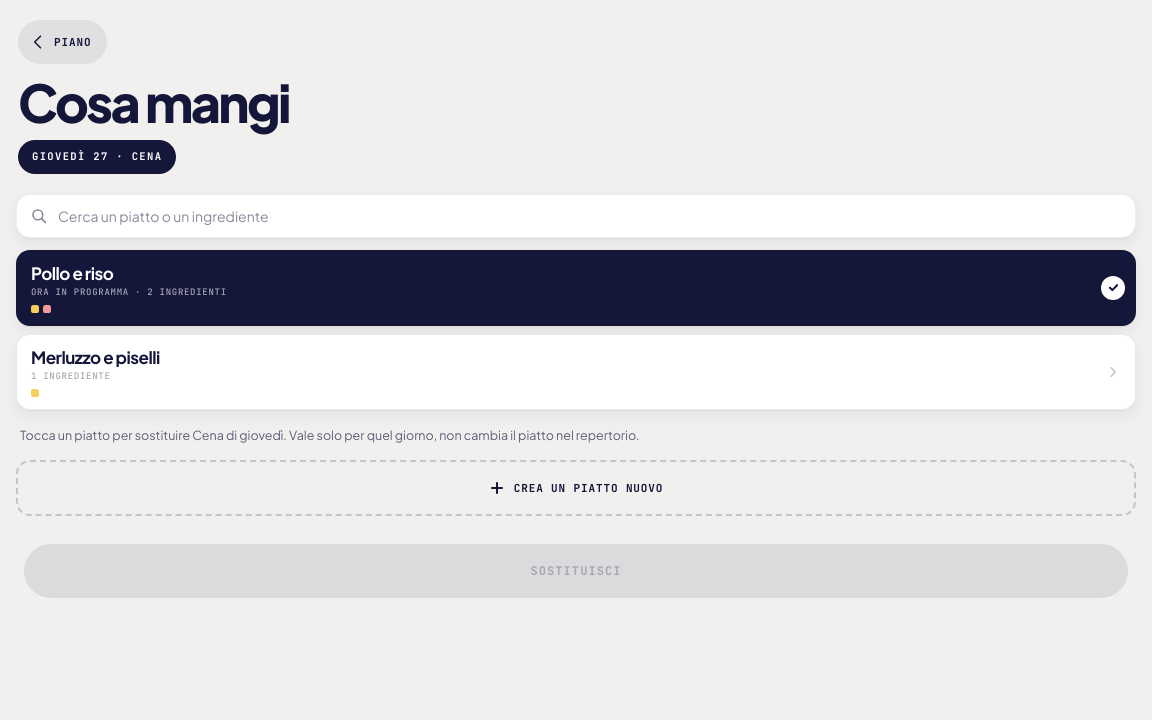
Test case: Scegli — il ridisegno della fase 7 › la ricerca filtra per nome del piatto o di un ingrediente, mostra il vuoto di Piatti e non cambia la scelta
Expected: the text "Pollo e riso" is shown, [31,262,113,284]
Type "merluzzo" into the search field labelled "Cerca un piatto o un ingrediente" at (576, 216), box [16,194,1136,238]
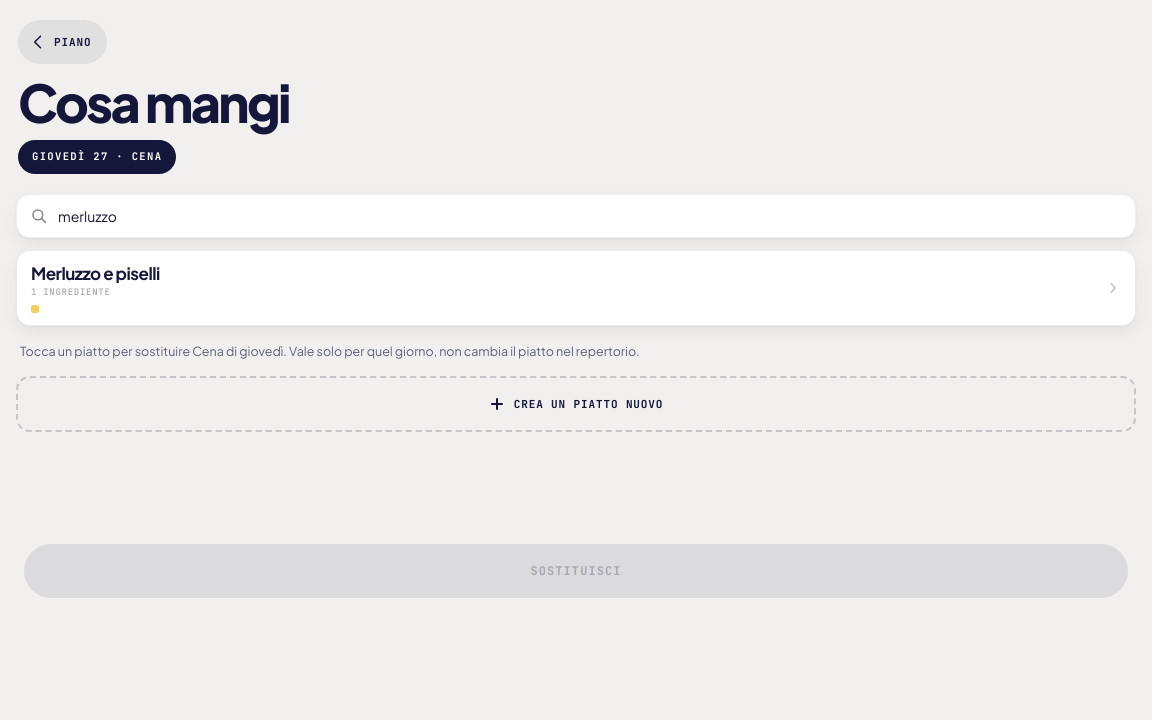
Expected: the text "Merluzzo e piselli" is shown, [31,262,160,284]
Expected: the button "Pollo e riso" is gone
# Per ingrediente: il Riso sta in tutti e due, nel Merluzzo solo come ingrediente.
Replace the text in the search field named "Cerca un piatto o un ingrediente" with "RISO" at (576, 216), box [16,194,1136,238]
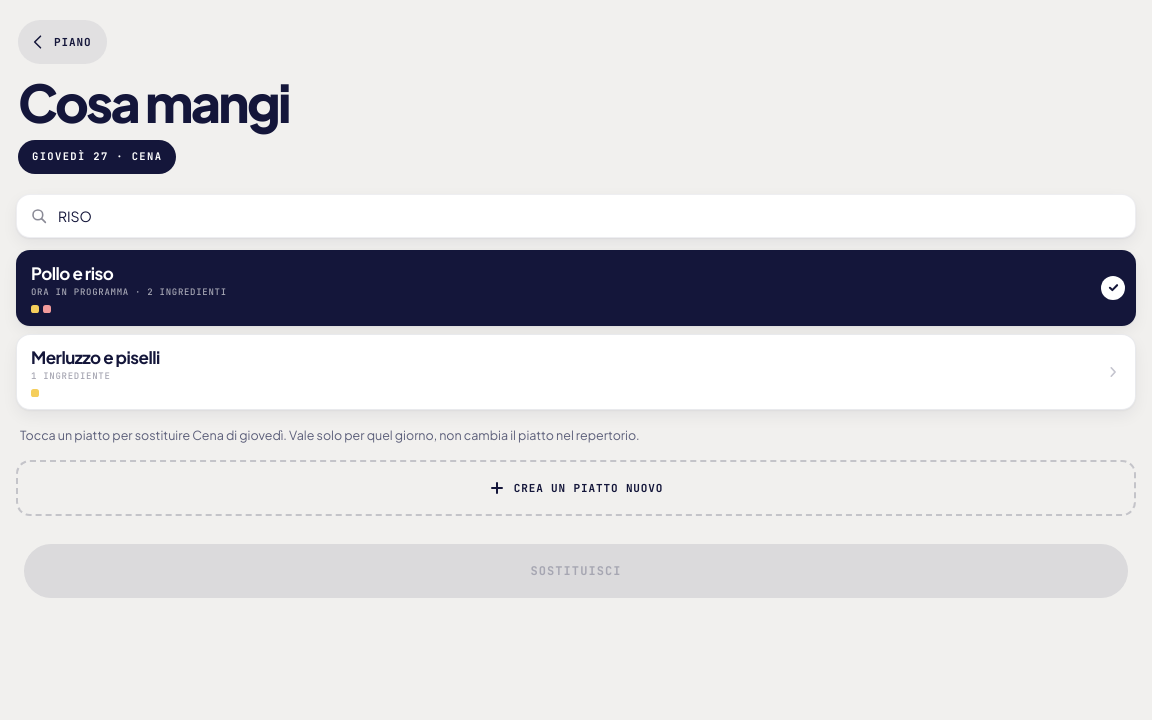
Expected: the text "Merluzzo e piselli" is shown, [31,346,160,368]
Expected: the text "Pollo e riso" is shown, [31,262,113,284]
Replace the text in the search field named "Cerca un piatto o un ingrediente" with "zucca" at (576, 216), box [16,194,1136,238]
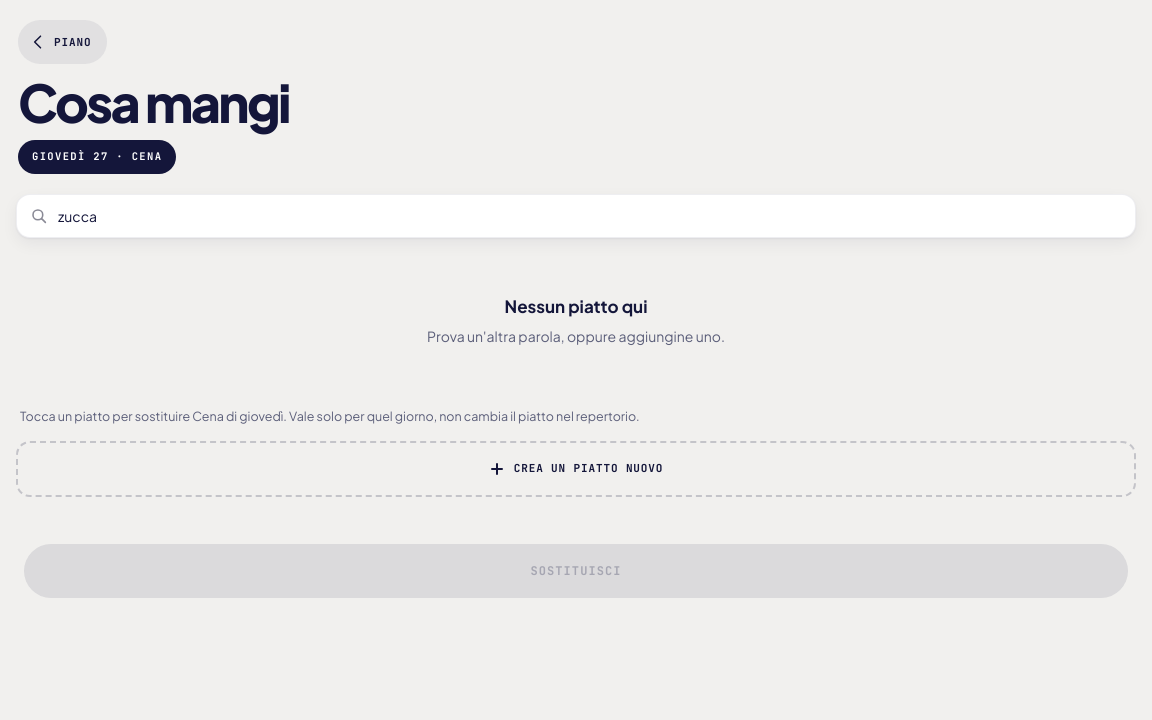
Expected: the button "SOSTITUISCI" is disabled, [24,544,1128,598]
Expected: the text "Nessun piatto qui" is shown, [504,295,647,317]
Clear the search field named "Cerca un piatto o un ingrediente" at (576, 216), box [16,194,1136,238]
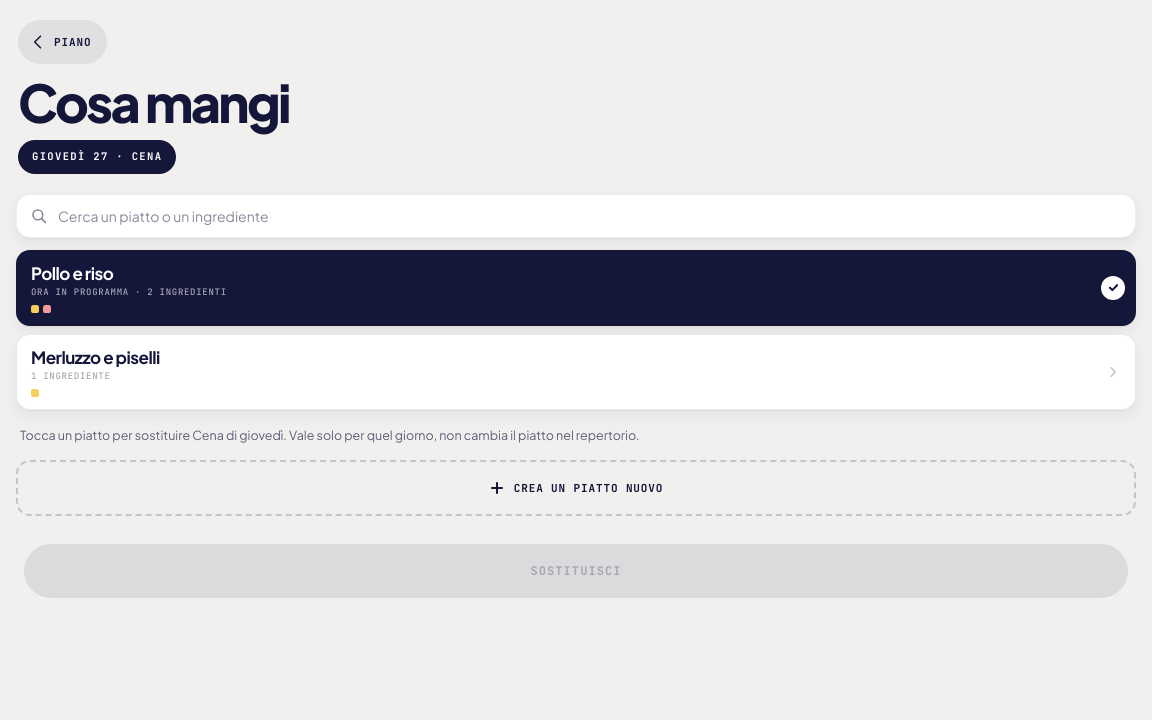
Expected: the text "Nessun piatto qui" is gone
